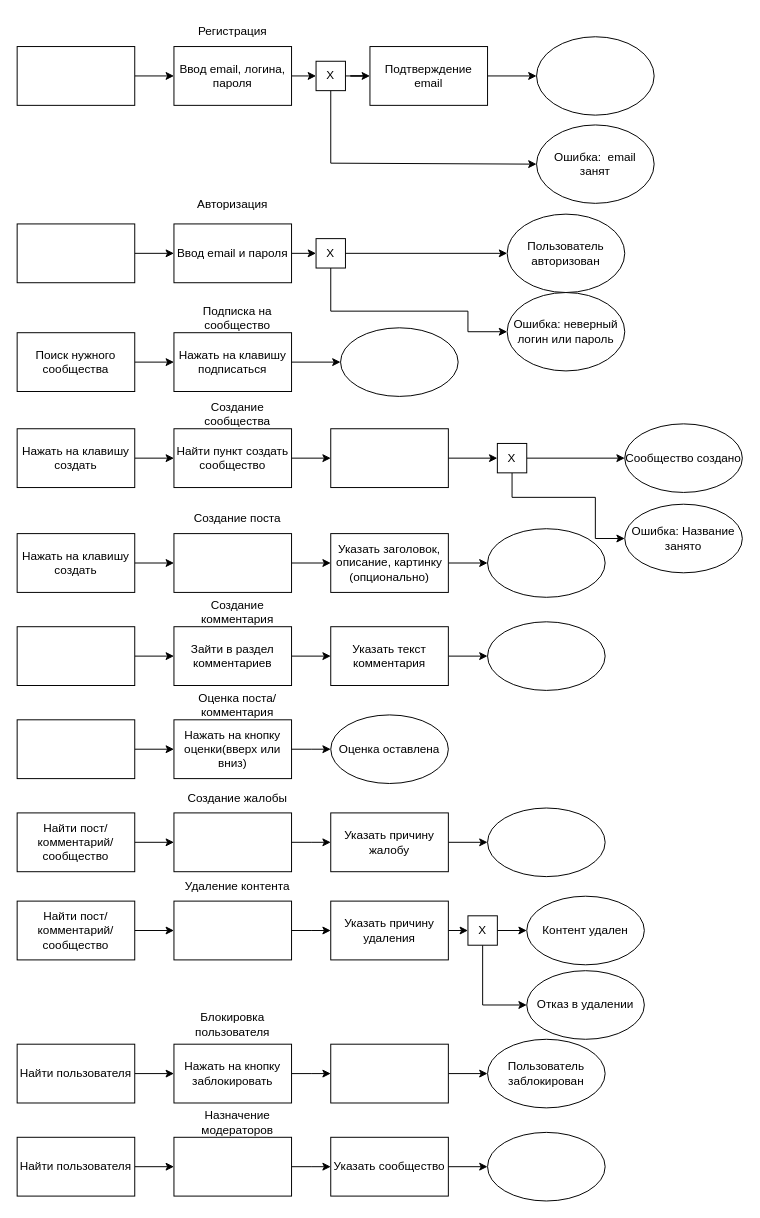
Some shapes in this 760 by 1218 pixel diagram are drawn without their labels. Here are the shapes that lost their labels. From the top down, the box of each, then its label:
(16, 46, 135, 105): Переход на страницу регистрации
(536, 36, 654, 115): Аккаунт создан
(16, 223, 135, 283): Переход на страницу авторизации
(340, 327, 458, 396): Пользователь подписан на сообщество
(330, 428, 448, 488): Указать название, описание, картинку нового сообщества
(173, 533, 292, 592): Указать сообщество, в котором будет опубликован пост
(487, 528, 605, 597): Пост создан
(16, 626, 135, 686): Найти интересующий пост
(487, 621, 605, 690): Комментарий создан
(16, 719, 135, 779): Найти интересующий пост/комментарий
(173, 812, 292, 872): Нажать на кнопку пожаловаться
(487, 807, 605, 877): Жалоба создана
(173, 900, 292, 960): Нажать на кнопку удалить
(330, 1043, 448, 1103): Указать причину блокировки
(173, 1136, 292, 1196): Нажать на кнопку дать право на модерацию
(487, 1131, 605, 1201): Пользователь стал модератором
